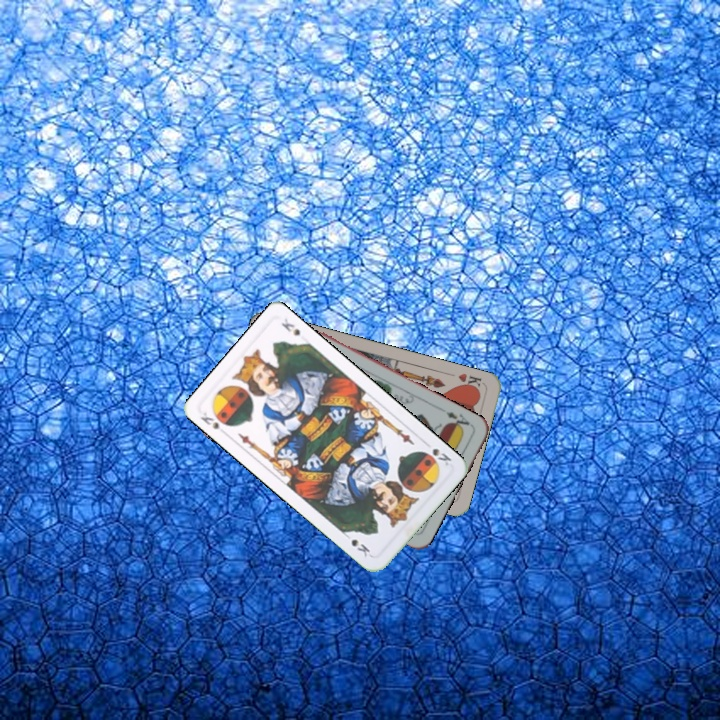EA: (442, 407, 475, 433)
HK: (454, 369, 486, 393)
SK: (196, 408, 231, 437), (428, 444, 454, 468)
